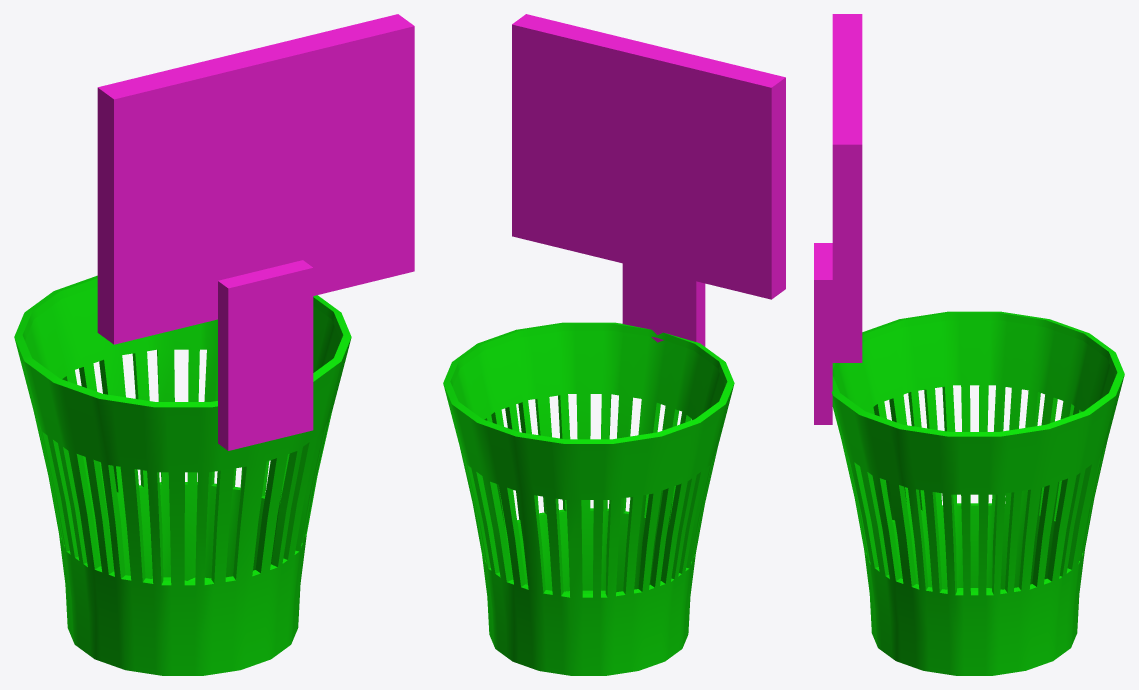
File: N_Trash.fbx
3 views of the same model, side by side, from view 1: azimuth 30°, elevation 25°; view 2: azimuth 150°, elevation 25°; view 3: azimuth 270°, elevation 25° (orthographic). The views are drawn at different scales.
Visible parts, largest first — view 1: Trash; view 2: Trash; view 3: Trash.
Part boxes in pixels (bbox=[...]): Trash: bbox=[14, 14, 414, 675]; Trash: bbox=[443, 14, 785, 675]; Trash: bbox=[814, 14, 1124, 675].
Size of the model in its own units: 38.65 by 76.54 by 38.85.
